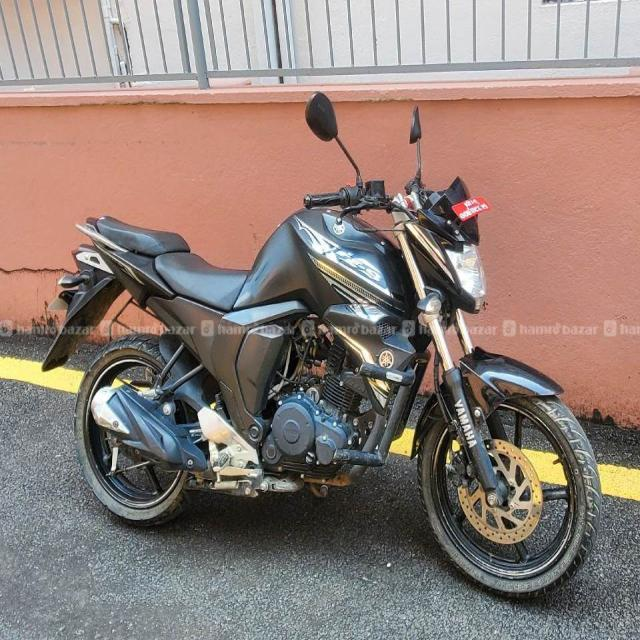License-plate: (450, 188, 490, 234)
